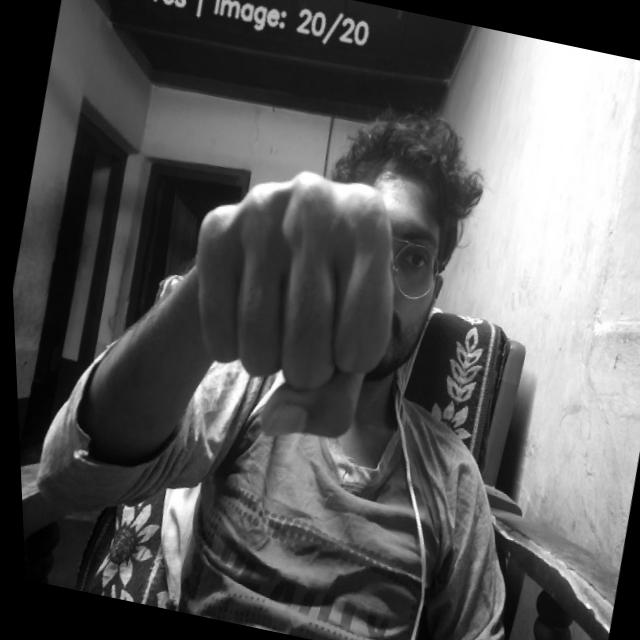Yes: (158, 150, 422, 461)
